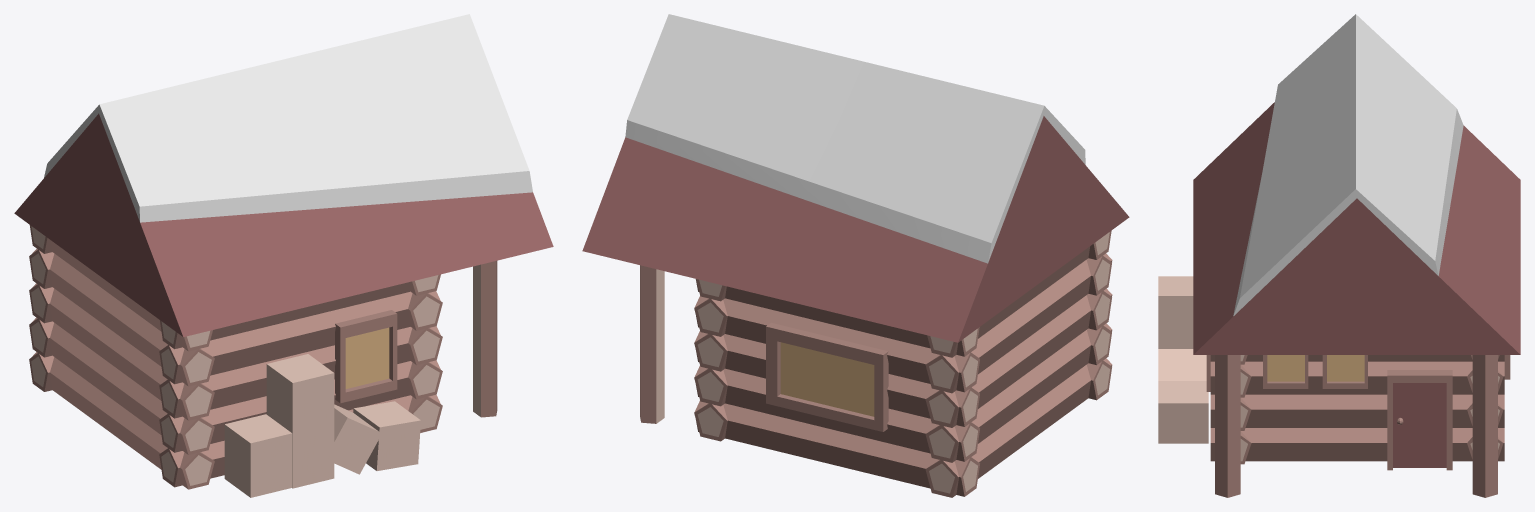
File: house v2.fbx
3 renders of one model, left to right at view 1: azimuth 30°, elevation 25°; view 2: azimuth 150°, elevation 25°; view 3: azimuth 270°, elevation 25°, orthographic. The views are drawn at different scales.
Visible parts, largest first — view 1: pPrism1, pasted__pCylinder41, pCube1, pasted__pCylinder32, pasted__pCylinder29, pasted__pCylinder30, pasted__pCylinder31, pCube8, pasted__pCylinder51, pasted__pCylinder42, pCube10, pCube9 (+14 smaller); view 2: pPrism1, pCube4, pasted__pCylinder45, pasted__pCylinder46, pasted__pCylinder32, pasted__pCylinder48, pasted__pCylinder29, pasted__pCylinder30, pasted__pCylinder31, pasted__pCylinder50, pasted__pCylinder47, pasted__pCylinder44 (+9 smaller); view 3: pPrism1, pCube6, pasted__pCylinder34, pasted__pCylinder35, pasted__pCylinder36, pasted__pCylinder51, pasted__pCylinder50, pCube13, pCube10, pCube2, pCube5, pCube11 (+2 smaller).
Boxes of the visible parts, <box> form: pPrism1: <box>14,14,553,336</box>; pasted__pCylinder41: <box>159,291,440,384</box>; pCube1: <box>335,310,397,403</box>; pasted__pCylinder32: <box>32,249,214,386</box>; pasted__pCylinder29: <box>32,352,214,489</box>; pasted__pCylinder30: <box>31,317,214,454</box>; pasted__pCylinder31: <box>31,283,214,420</box>; pCube8: <box>224,414,292,497</box>; pasted__pCylinder51: <box>473,260,497,417</box>; pasted__pCylinder42: <box>159,326,440,418</box>; pCube10: <box>266,354,334,425</box>; pCube9: <box>266,401,334,488</box>; pPrism1: <box>582,14,1129,342</box>; pCube4: <box>766,322,888,431</box>; pasted__pCylinder45: <box>694,401,979,496</box>; pasted__pCylinder46: <box>694,295,979,392</box>; pasted__pCylinder32: <box>925,253,1112,393</box>; pasted__pCylinder48: <box>695,366,979,461</box>; pasted__pCylinder29: <box>925,358,1112,497</box>; pasted__pCylinder30: <box>925,323,1112,462</box>; pasted__pCylinder31: <box>925,288,1112,427</box>; pasted__pCylinder50: <box>640,265,664,423</box>; pasted__pCylinder47: <box>694,331,979,426</box>; pasted__pCylinder44: <box>696,280,979,356</box>; pPrism1: <box>1193,14,1520,354</box>; pCube6: <box>1387,370,1452,470</box>; pasted__pCylinder34: <box>1210,428,1504,461</box>; pasted__pCylinder35: <box>1210,394,1504,427</box>; pasted__pCylinder36: <box>1210,361,1504,394</box>; pasted__pCylinder51: <box>1215,355,1240,497</box>; pasted__pCylinder50: <box>1472,355,1497,497</box>; pCube13: <box>1158,381,1208,443</box>; pCube10: <box>1158,276,1193,337</box>; pCube2: <box>1263,355,1308,388</box>; pCube5: <box>1322,355,1367,388</box>; pCube11: <box>1158,349,1206,380</box>.
Bounding box in the file's own units: 17.71 × 15.45 × 15.5.
